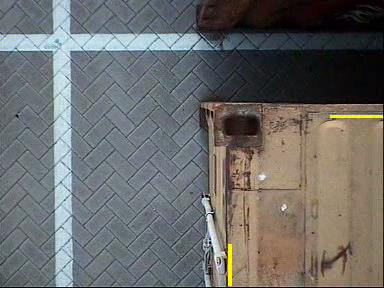groundmarker_2: (135, 231, 192, 257), (137, 76, 193, 101)
